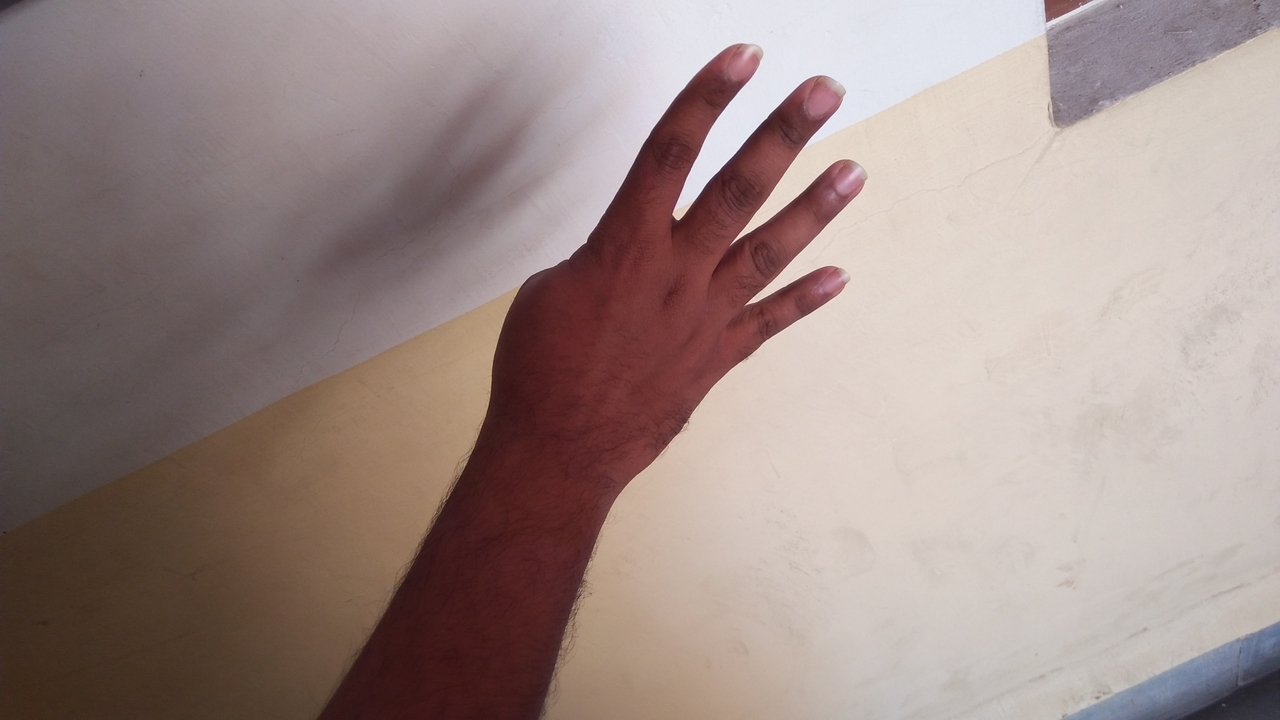fingertip: (806, 144, 876, 204), (782, 254, 858, 308), (782, 70, 860, 122), (708, 34, 768, 88)
